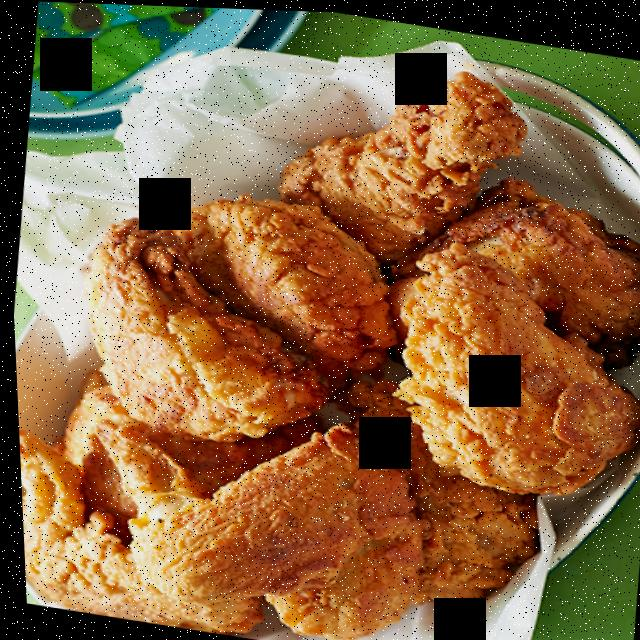Frango: (235, 37, 561, 268)
